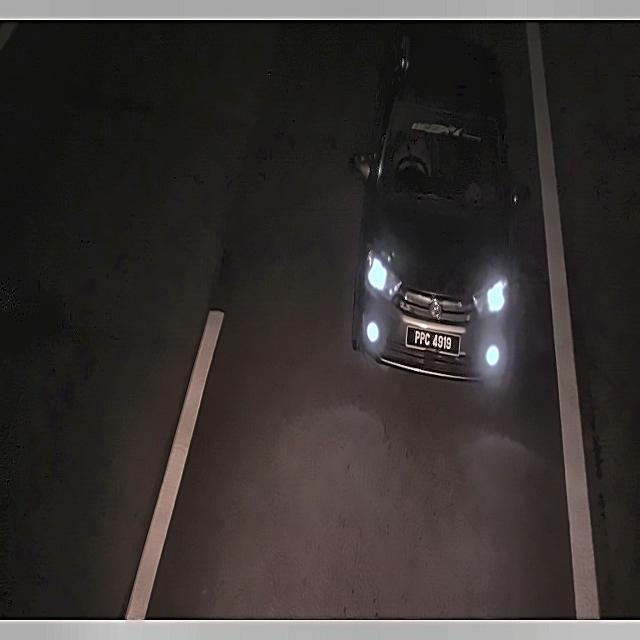car: (407, 327, 461, 357)
